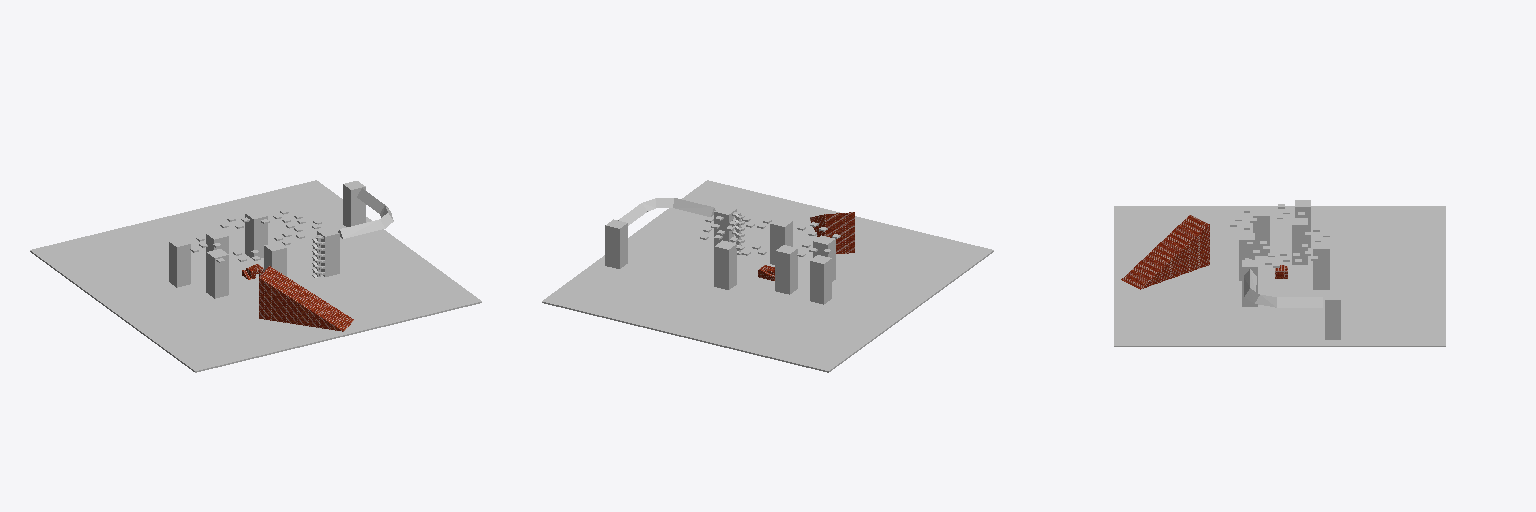
3 renders of one model, left to right at view 1: azimuth 30°, elevation 25°; view 2: azimuth 150°, elevation 25°; view 3: azimuth 270°, elevation 25°, orthographic.
Visible parts, largest first — view 1: Cube, Cube.008, Cube.031, Cube.086, Cube.036, Cube.092, Cube.037, Cube.034; view 2: Cube, Cube.008, Cube.036, Cube.035, Cube.092, Cube.086, Cube.034; view 3: Cube, Cube.008, Cube.036, Cube.092, Cube.031, Cube.035.
Boxes of the visible parts, x1=… form: Cube: x1=30, y1=180, x2=481, y2=372; Cube.008: x1=259, y1=266, x2=353, y2=331; Cube.031: x1=206, y1=249, x2=228, y2=298; Cube.086: x1=169, y1=238, x2=190, y2=287; Cube.036: x1=245, y1=210, x2=267, y2=257; Cube.092: x1=343, y1=181, x2=365, y2=226; Cube.037: x1=317, y1=227, x2=339, y2=276; Cube.034: x1=264, y1=242, x2=286, y2=276; Cube: x1=542, y1=180, x2=993, y2=372; Cube.008: x1=810, y1=212, x2=854, y2=253; Cube.036: x1=714, y1=240, x2=736, y2=289; Cube.035: x1=775, y1=245, x2=797, y2=294; Cube.092: x1=605, y1=219, x2=627, y2=268; Cube.086: x1=810, y1=255, x2=831, y2=304; Cube.034: x1=770, y1=218, x2=792, y2=264; Cube: x1=1114, y1=206, x2=1445, y2=346; Cube.008: x1=1121, y1=215, x2=1209, y2=289; Cube.036: x1=1313, y1=242, x2=1329, y2=289; Cube.092: x1=1325, y1=293, x2=1340, y2=339; Cube.031: x1=1253, y1=209, x2=1269, y2=255; Cube.035: x1=1292, y1=218, x2=1307, y2=264.
Size of the model in its own units: 200 by 28.3 by 200.
Materials: 4 (1 with a texture image).